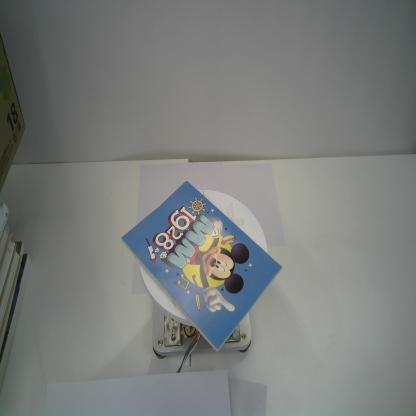Stationery: (120, 180, 283, 353)
